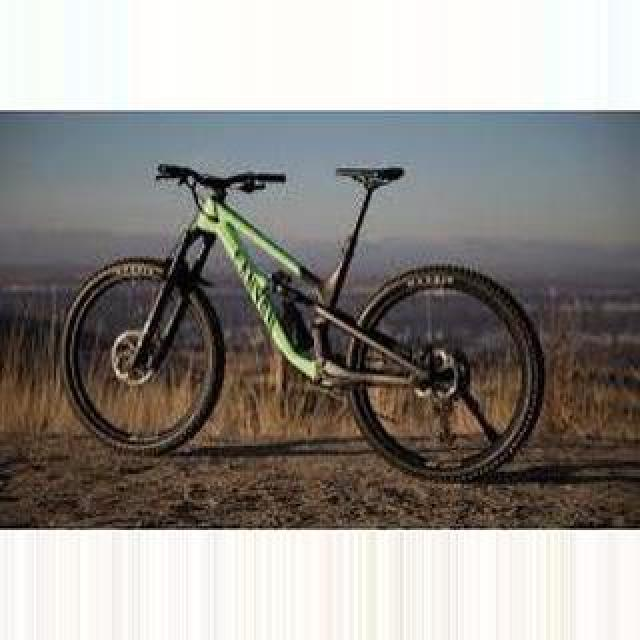Person: (60, 152, 552, 476)
